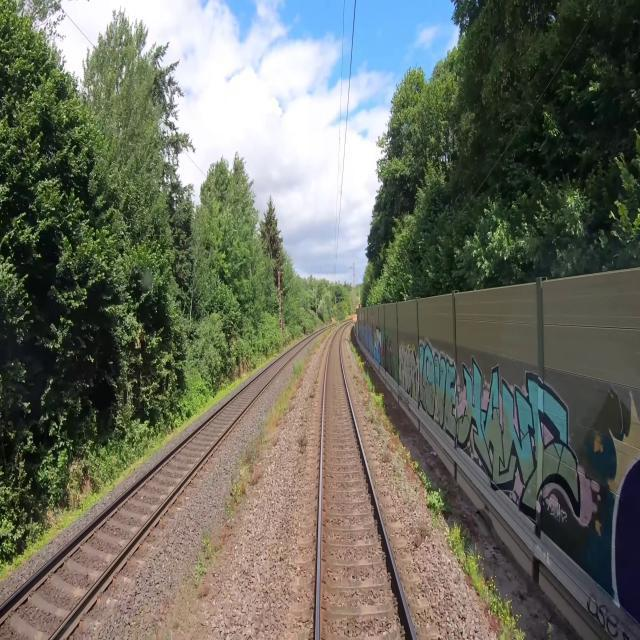Plant: (218, 330, 330, 524), (190, 532, 224, 591), (298, 376, 320, 456)
